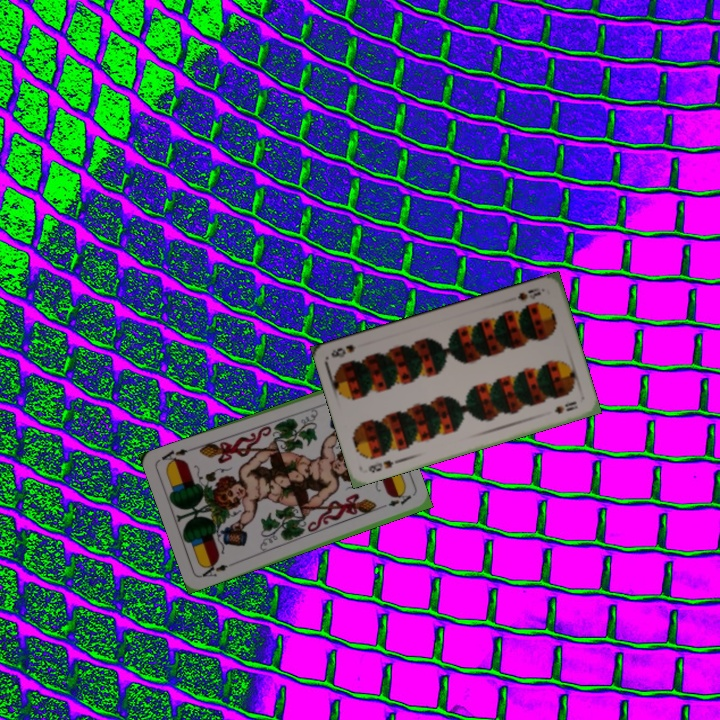EA: (198, 558, 236, 580)
S8: (364, 456, 396, 476), (514, 284, 544, 303)
